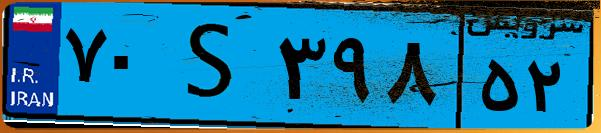0: (110, 28, 158, 98)
2: (525, 38, 570, 115)
3: (270, 28, 330, 110)
5: (475, 38, 525, 113)
7: (57, 26, 110, 100)
8: (385, 28, 445, 110)
9: (330, 28, 385, 110)
S: (158, 12, 270, 120)
